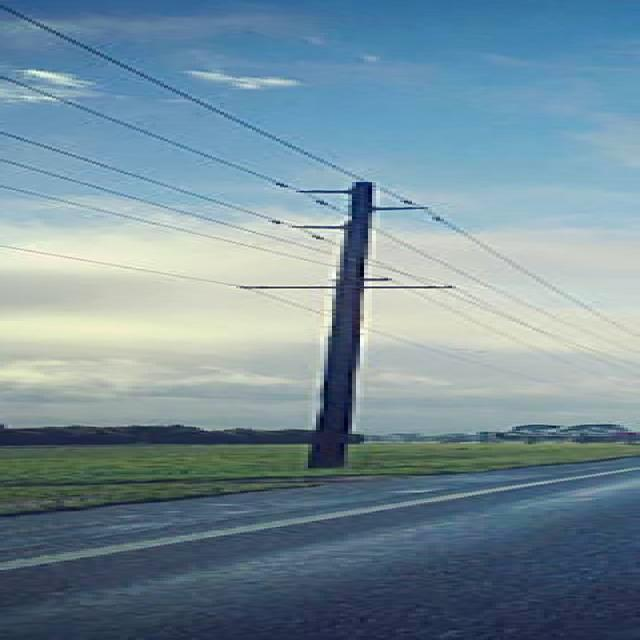crossarm: (236, 283, 455, 291), (372, 201, 431, 215), (298, 187, 350, 202), (291, 222, 343, 233)
pole: (305, 181, 375, 473)
wire: (1, 3, 640, 339), (0, 74, 640, 358), (0, 131, 341, 248), (1, 159, 340, 257), (1, 185, 345, 270), (368, 262, 639, 368), (0, 245, 326, 317)
